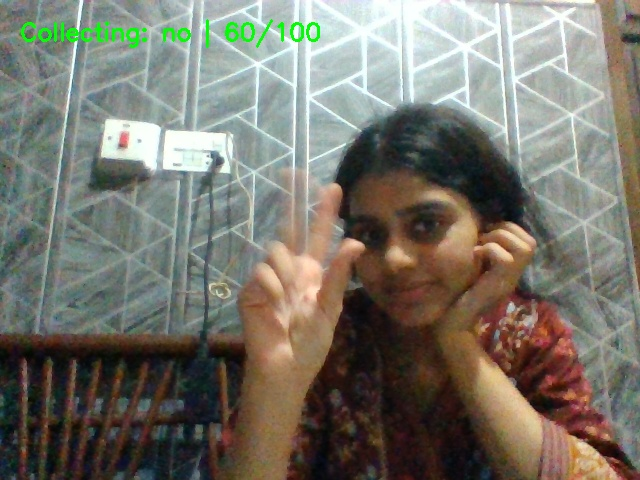no: (219, 159, 386, 405)
